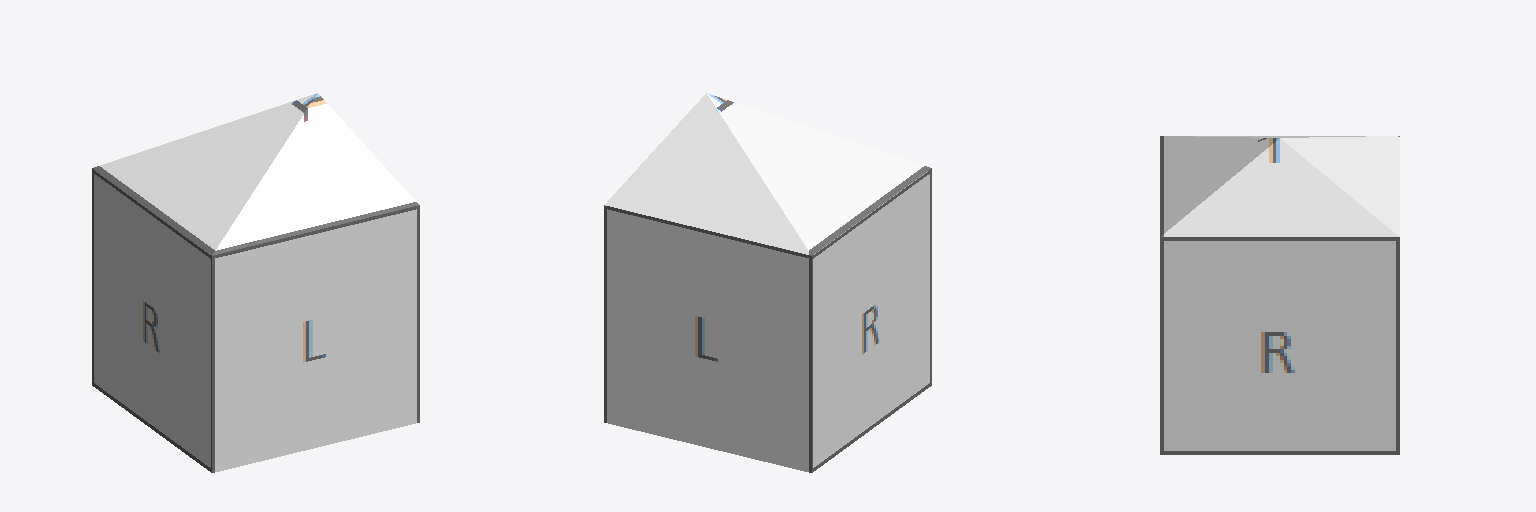
3 views of the same model, side by side, from view 1: azimuth 30°, elevation 25°; view 2: azimuth 150°, elevation 25°; view 3: azimuth 270°, elevation 25° (orthographic).
Visible parts, largest first — view 1: Cube.001; view 2: Cube.001; view 3: Cube.001.
Boxes of the visible parts, box(x1,y1,x2,y2) form: Cube.001: box(92, 93, 419, 472); Cube.001: box(604, 93, 931, 472); Cube.001: box(1160, 136, 1399, 454).
Size of the model in its own units: 1.6 by 2.18 by 1.6.
Materials: 1 (1 with a texture image).